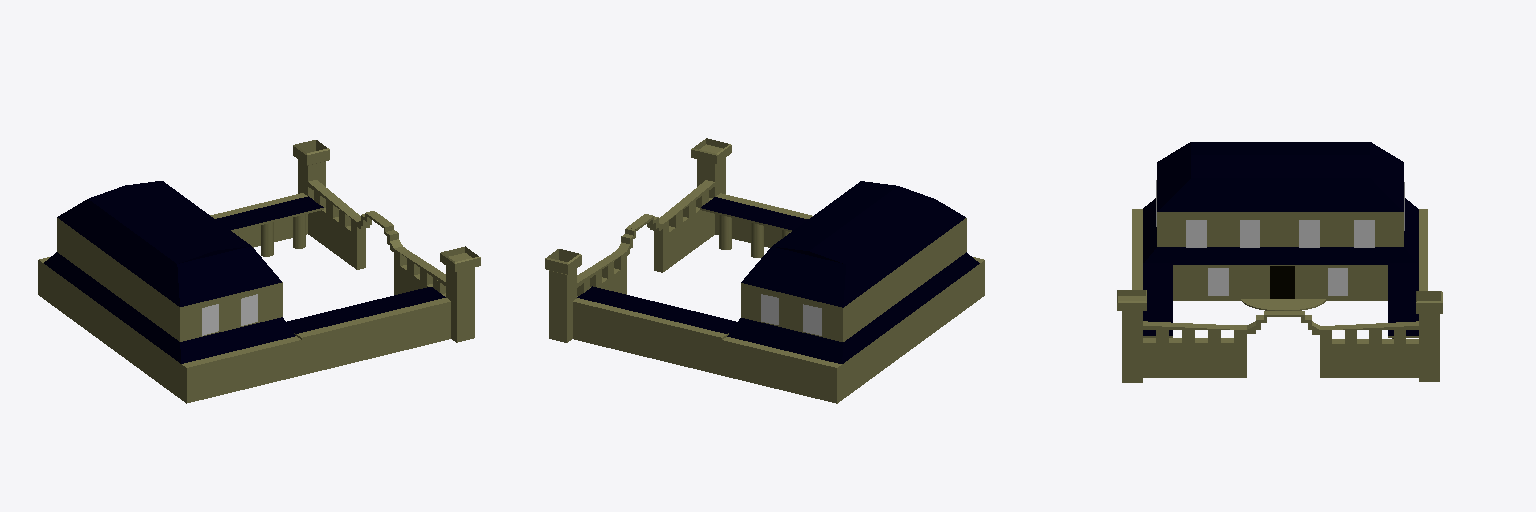
Rendered from chateau.obj.
3 renders of one model, left to right at view 1: azimuth 30°, elevation 25°; view 2: azimuth 150°, elevation 25°; view 3: azimuth 270°, elevation 25°, orthographic.
Visible parts, largest first — view 1: Cube; view 2: Cube; view 3: Cube.
Boxes of the visible parts, x1=… form: Cube: x1=38, y1=140, x2=480, y2=403; Cube: x1=545, y1=138, x2=984, y2=403; Cube: x1=1117, y1=142, x2=1442, y2=382.
Size of the model in its own units: 31.88 by 12.45 by 31.33.